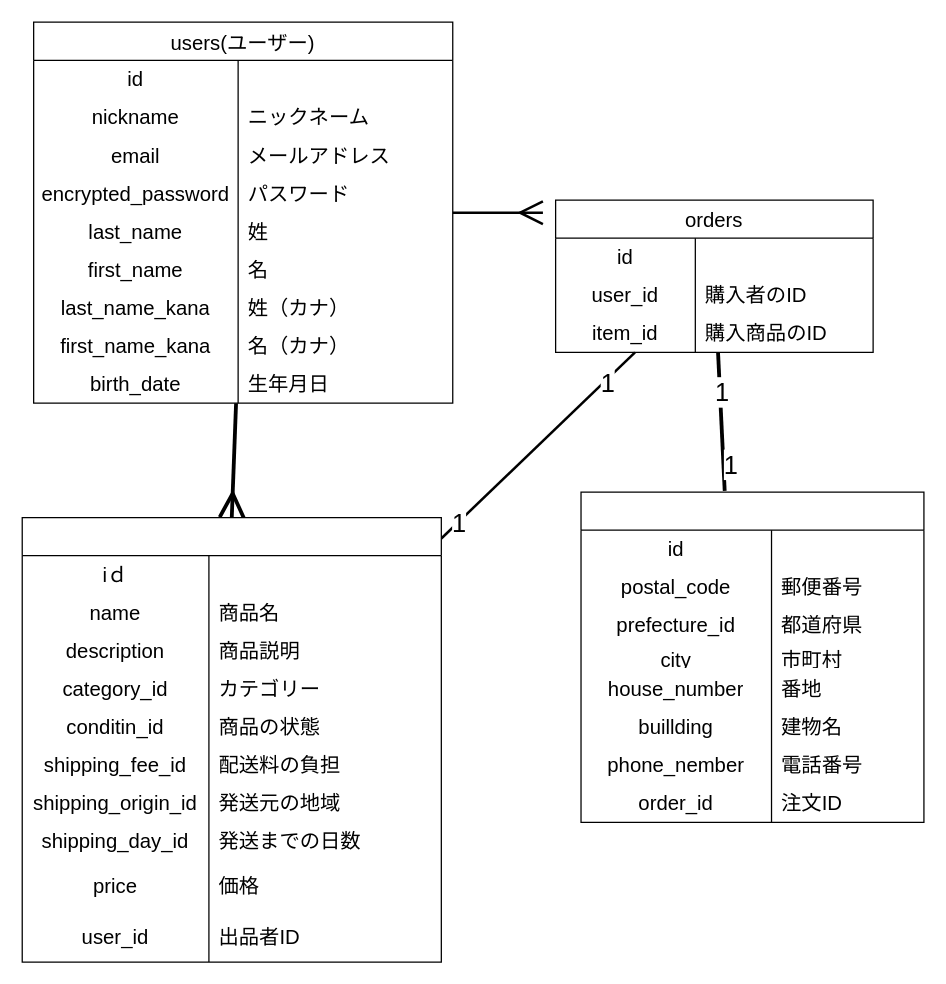
Some shapes in this 946 by 984 pixel diagram are drawn without their labels. The box of each missing label's shape, as (x1, y1, x2, y2) in pixels:
addresses(発送元): (580, 491, 924, 822)
items(商品): (21, 516, 441, 962)
